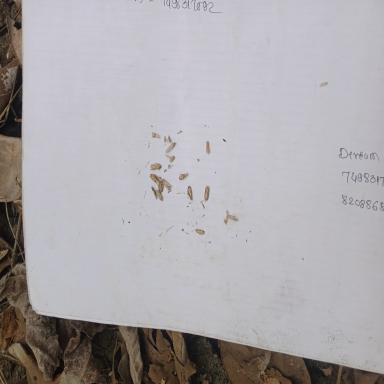pbw: (150, 174, 162, 185), (165, 142, 176, 153), (162, 178, 171, 191), (155, 189, 163, 202), (150, 163, 164, 170), (187, 185, 193, 201), (158, 177, 164, 192), (227, 214, 239, 221), (204, 186, 209, 202), (204, 141, 210, 154), (194, 228, 206, 234), (178, 173, 188, 180), (168, 136, 171, 142), (164, 136, 165, 142)
